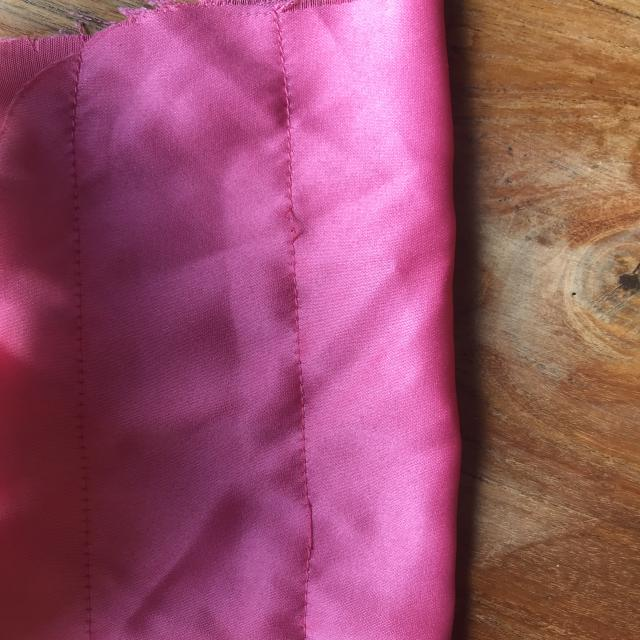broken: (268, 187, 324, 257)
skip: (283, 478, 332, 568)
